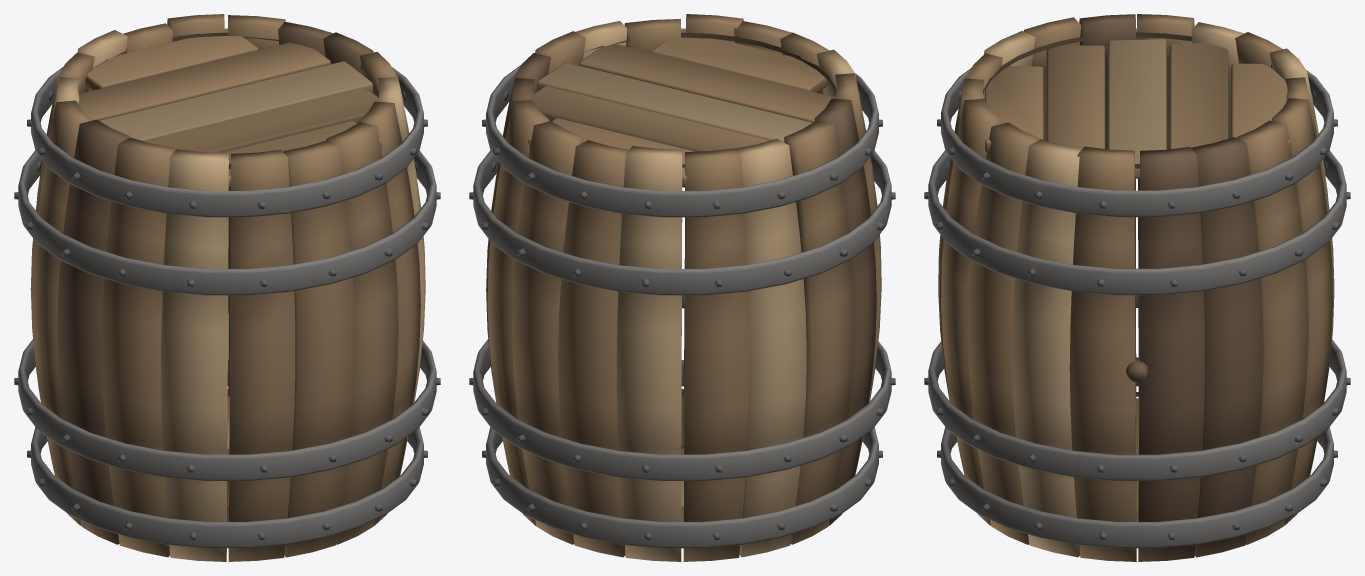
The model's file is barrel.484b6eb4.glb.
3 renders of one model, left to right at view 1: azimuth 30°, elevation 25°; view 2: azimuth 150°, elevation 25°; view 3: azimuth 270°, elevation 25°, orthographic.
Parts seen in each view (by area): view 1: barrel; view 2: barrel; view 3: barrel.
Boxes of the visible parts, bbox=[...] form: barrel: bbox=[14, 14, 440, 561]; barrel: bbox=[469, 14, 895, 561]; barrel: bbox=[924, 14, 1350, 561].
Bounding box in the file's own units: 0.9453 × 1 × 0.9572.
